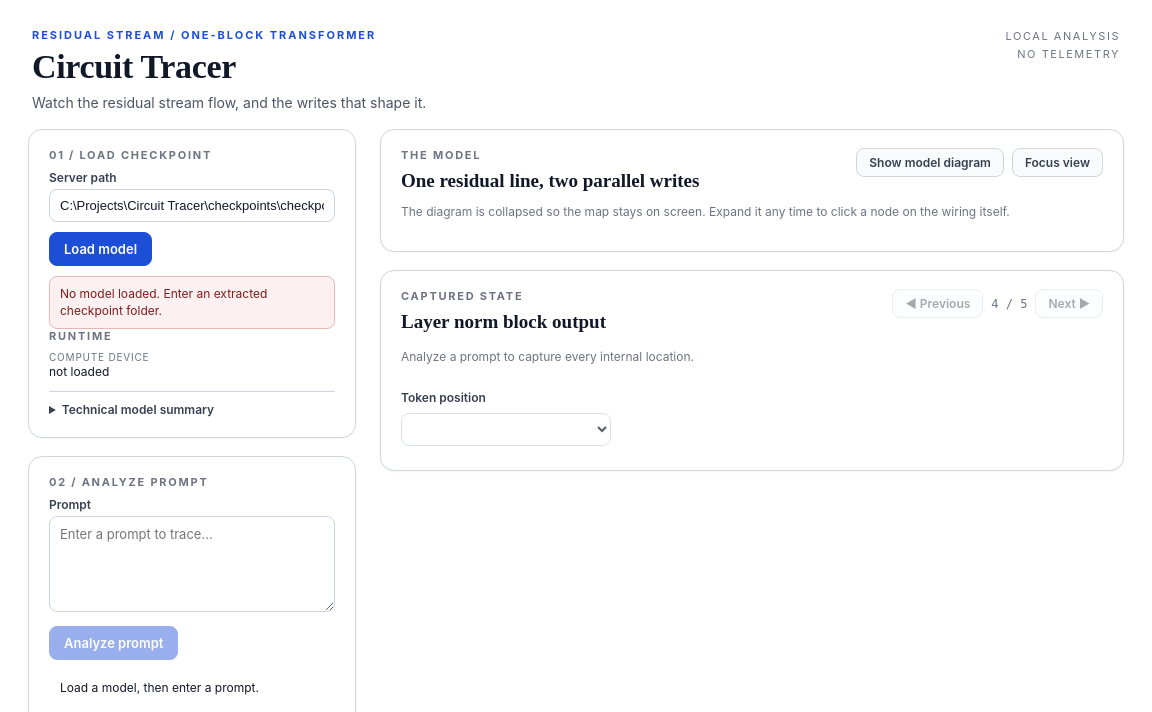
it: App › chooses a node from the strip above the map
The image size is (1152, 712).
Type "hello ," into the text box labelled "Prompt" at (192, 564), box [49,516,335,612]
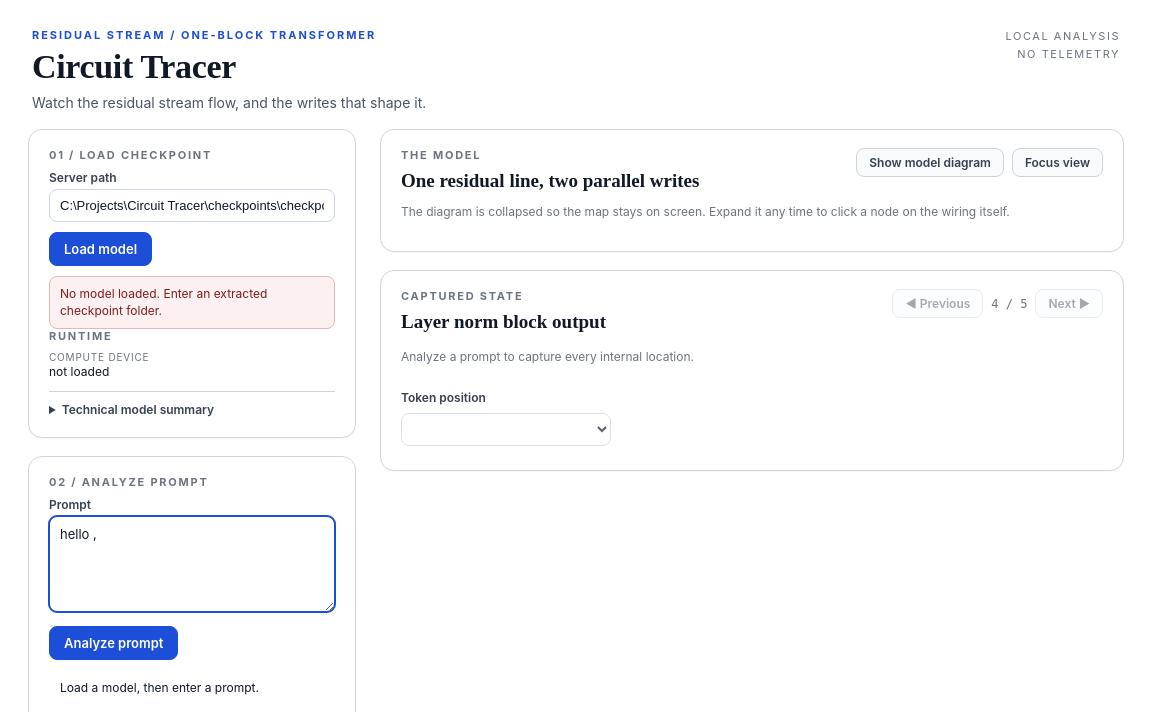
Click the button "Analyze prompt" at (114, 643), box [49,626,178,660]
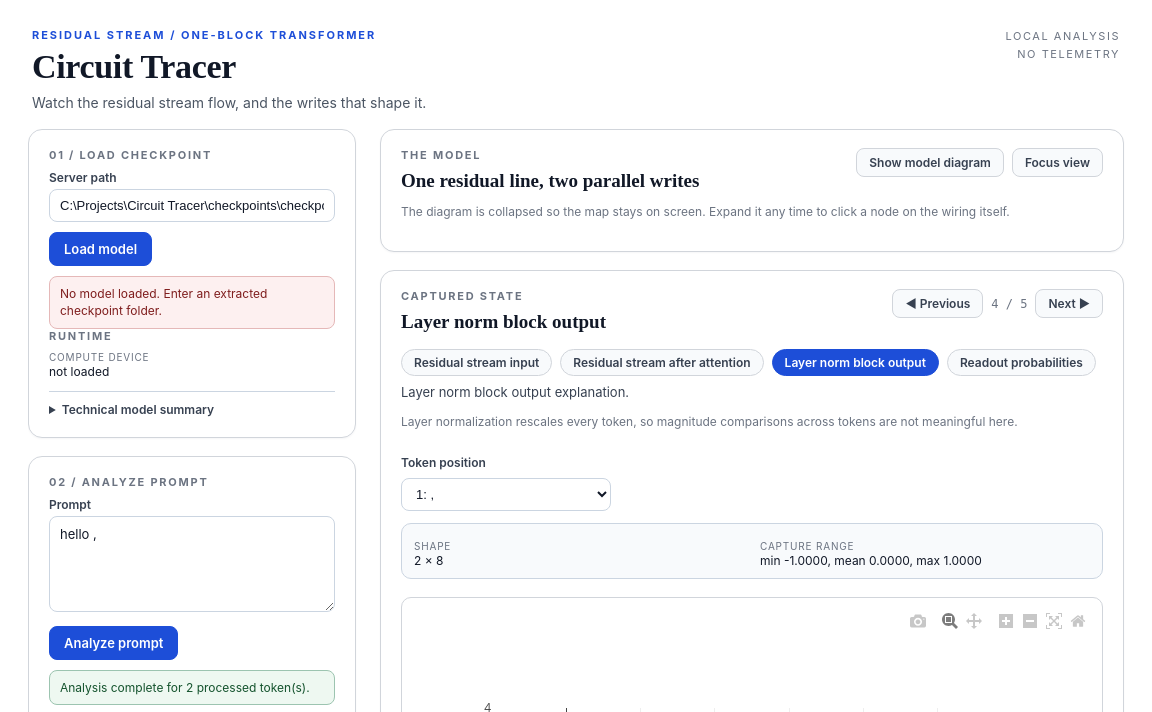
Expected: the heading with test id "node-label" reads "Layer norm block output", [401,311,606,332]
Now the element with test id "node-strip" is shown, box [401,349,1103,376]
Now the button "Residual stream after attention" is shown
Click the button "Residual stream after attention" at (662, 362), box [560,349,764,376]
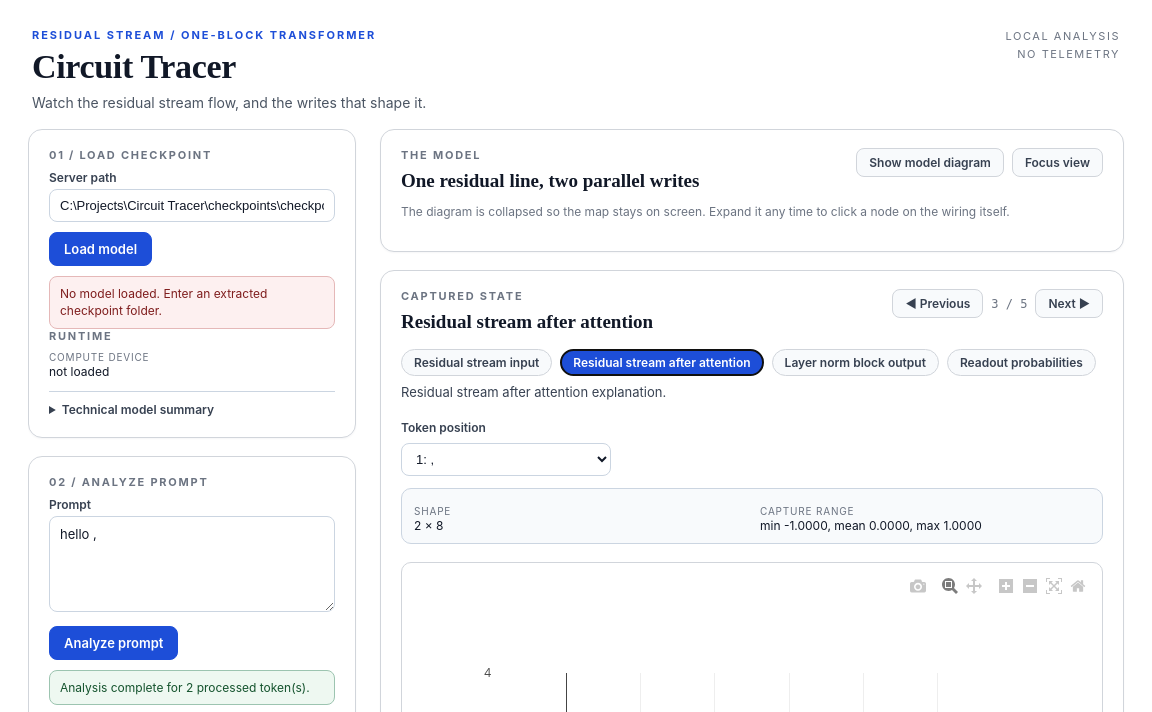
Now the heading with test id "node-label" reads "Residual stream after attention", box [401,311,653,332]
